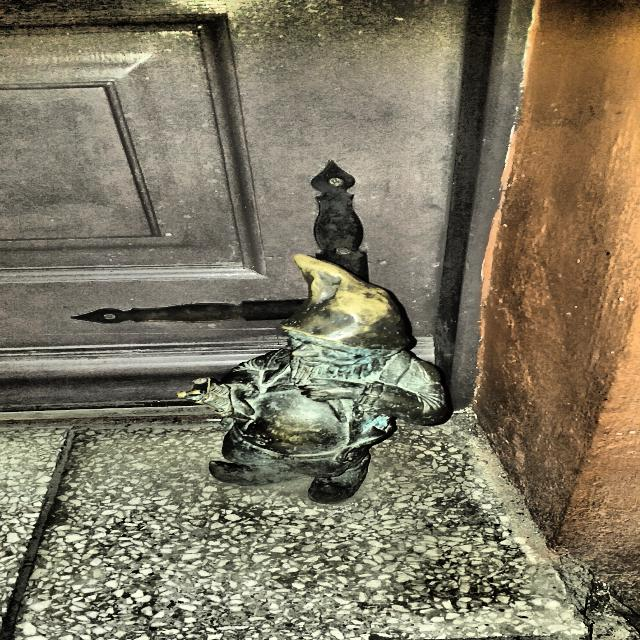TatuazystaKonstanty: (180, 255, 447, 504)
